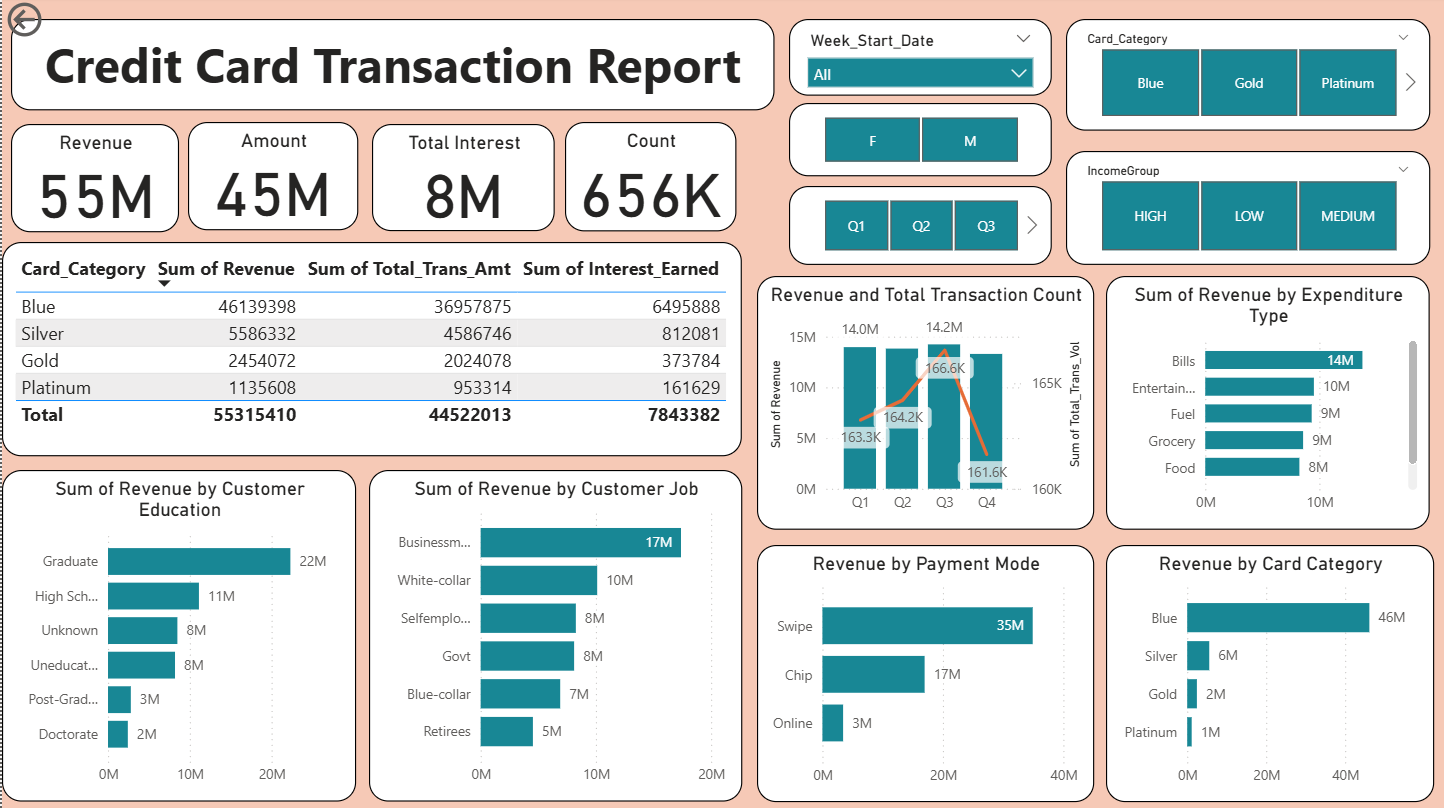

This screenshot's page, from the dashboard's own definition file:
{"tool":"powerbi","page":{"name":"cc_transactionreport","canvas":[1280,720],"ordinal":0},"visuals":[{"type":"textbox","box":[8,19.6,677.4,81.1],"z":0},{"type":"lineStackedColumnComboChart","title":"Revenue and Total Transaction Count","fields":{"Category":["credit_card.Qtr"],"Y":["Sum(credit_card.Revenue)"],"Y2":["Sum(credit_card.Total_Trans_Vol)"]},"box":[669.4,247.8,298.6,224.6],"z":1000},{"type":"clusteredBarChart","title":"Sum of Revenue by Expenditure Type","fields":{"Y":["Sum(credit_card.Revenue)"],"Category":["credit_card.Exp Type"]},"box":[978.7,247.8,287,224.6],"z":2000},{"type":"clusteredBarChart","title":"Sum of Revenue by Customer Education","fields":{"Y":["Sum(credit_card.Revenue)"],"Category":["customer (2).Education_Level"]},"box":[0,419.8,313.8,294.2],"z":3000},{"type":"clusteredBarChart","title":"Sum of Revenue by Customer Job","fields":{"Y":["Sum(credit_card.Revenue)"],"Category":["customer (2).Customer_Job"]},"box":[325.3,419.8,330.7,294.2],"z":4000},{"type":"clusteredBarChart","title":"Revenue by Payment Mode ","fields":{"Y":["Sum(credit_card.Revenue)"],"Category":["credit_card.Use Chip"]},"box":[669.4,485.8,298.6,228.2],"z":5000},{"type":"clusteredBarChart","title":"Revenue by Card Category","fields":{"Y":["Sum(credit_card.Revenue)"],"Category":["credit_card.Card_Category"]},"box":[978.7,485.8,290.6,228.2],"z":6000},{"type":"tableEx","fields":{"Values":["credit_card.Card_Category","Sum(credit_card.Revenue)","Sum(credit_card.Total_Trans_Amt)","Sum(credit_card.Interest_Earned)"]},"box":[0,217.5,656,189.9],"z":7000},{"type":"actionButton","box":[0,0,100,40],"z":8000},{"type":"card","title":"Revenue","fields":{"Values":["Sum(credit_card.Revenue)"]},"box":[8,112.3,148.9,96.3],"z":9000},{"type":"card","title":"Amount","fields":{"Values":["Sum(credit_card.Total_Trans_Amt)"]},"box":[164.9,110.5,150.6,96.3],"z":10000},{"type":"card","title":"Count","fields":{"Values":["Sum(credit_card.Total_Trans_Vol)"]},"box":[499.2,110.5,151.5,97.2],"z":11000},{"type":"card","title":"Total Interest","fields":{"Values":["Sum(credit_card.Interest_Earned)"]},"box":[328,112.3,162.2,95.4],"z":12000},{"type":"slicer","fields":{"Values":["credit_card.Week_Start_Date"]},"box":[697.9,19.6,232.6,67.7],"z":13000},{"type":"slicer","fields":{"Values":["customer (2).Gender"]},"box":[697.9,93.6,232.6,65.1],"z":14000},{"type":"slicer","fields":{"Values":["credit_card.Card_Category"]},"box":[943.1,19.6,322.7,98.9],"z":15000},{"type":"slicer","fields":{"Values":["customer (2).IncomeGroup"]},"box":[943.1,136.4,322.7,100.7],"z":16000},{"type":"slicer","fields":{"Values":["credit_card.Qtr"]},"box":[697.9,167.6,232.6,69.5],"z":17000}]}

Visuals, with their boxes in screenshot pixels (x1, y1, x2, y2), scaled from the page's 1280x720 canvas onto the 1444x808 screenshot:
textbox: Rect(9, 22, 773, 113)
"Revenue and Total Transaction Count" lineStackedColumnComboChart: Rect(755, 278, 1092, 530)
"Sum of Revenue by Expenditure Type" clusteredBarChart: Rect(1104, 278, 1428, 530)
"Sum of Revenue by Customer Education" clusteredBarChart: Rect(0, 471, 354, 801)
"Sum of Revenue by Customer Job" clusteredBarChart: Rect(367, 471, 740, 801)
"Revenue by Payment Mode " clusteredBarChart: Rect(755, 545, 1092, 801)
"Revenue by Card Category" clusteredBarChart: Rect(1104, 545, 1432, 801)
tableEx - credit_card.Card_Category x Sum(credit_card.Revenue): Rect(0, 244, 740, 457)
actionButton: Rect(0, 0, 113, 45)
"Revenue" card: Rect(9, 126, 177, 234)
"Amount" card: Rect(186, 124, 356, 232)
"Count" card: Rect(563, 124, 734, 233)
"Total Interest" card: Rect(370, 126, 553, 233)
slicer - credit_card.Week_Start_Date: Rect(787, 22, 1050, 98)
slicer - customer (2).Gender: Rect(787, 105, 1050, 178)
slicer - credit_card.Card_Category: Rect(1064, 22, 1428, 133)
slicer - customer (2).IncomeGroup: Rect(1064, 153, 1428, 266)
slicer - credit_card.Qtr: Rect(787, 188, 1050, 266)
